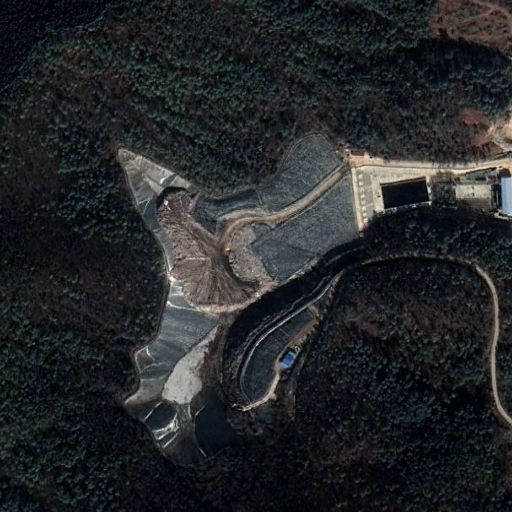lf: (115, 134, 361, 466)
